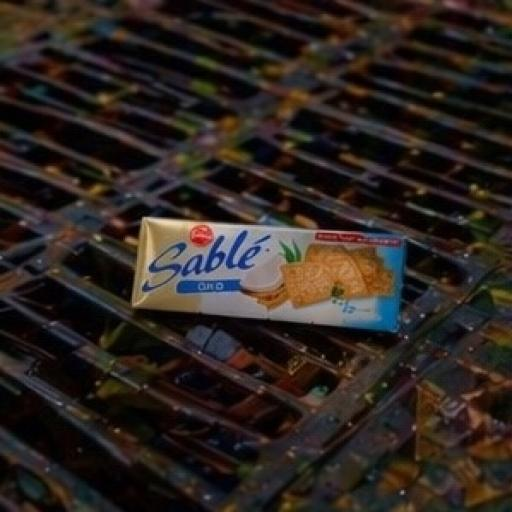sabl: (81, 164, 477, 428)
